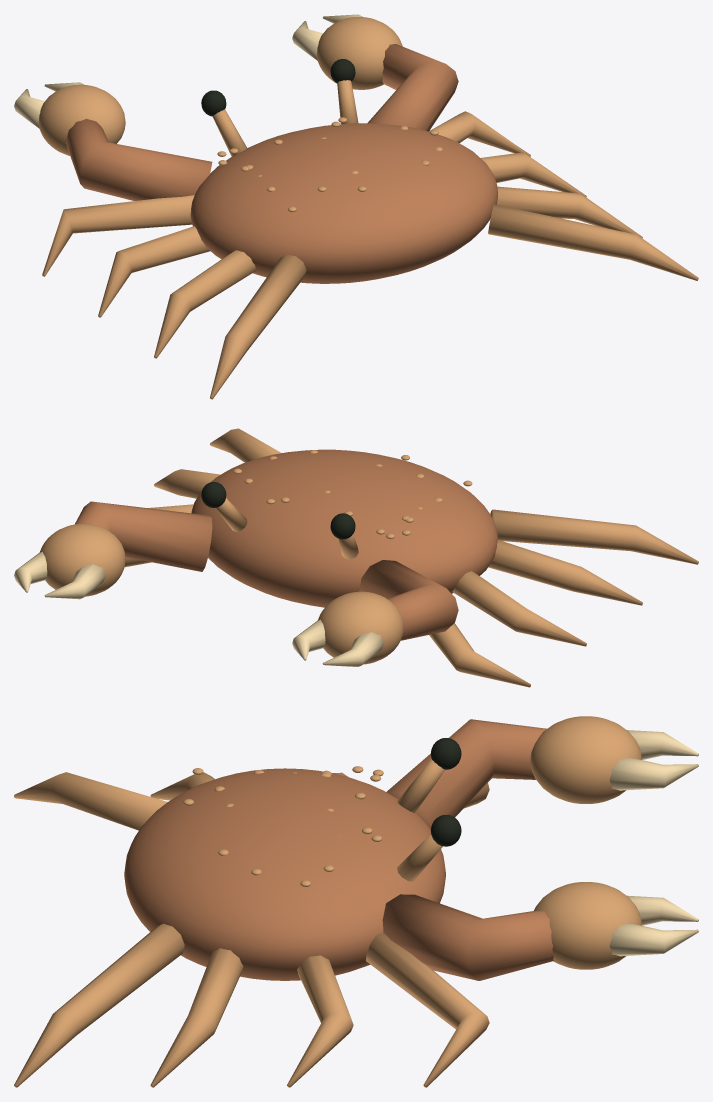
File: crab.glb
3 renders of one model, top to bottom at view 1: azimuth 30°, elevation 25°; view 2: azimuth 150°, elevation 25°; view 3: azimuth 270°, elevation 25°, orthographic. The views are drawn at different scales.
Visible parts, largest first — view 1: Flattened carapace, Claw arm, Segmented walking leg.007, Claw arm.001, Segmented walking leg, Segmented walking leg.003, Claw palm.001, Claw palm, Segmented walking leg.002, Segmented walking leg.001, Segmented walking leg.006, Segmented walking leg.005 (+5 smaller); view 2: Flattened carapace, Claw arm.001, Segmented walking leg.003, Claw arm, Claw palm, Claw palm.001, Segmented walking leg.002, Segmented walking leg.001, Segmented walking leg, Segmented walking leg.007, Segmented walking leg.006, Open pincer (+6 smaller); view 3: Flattened carapace, Claw arm.001, Claw palm, Claw arm, Segmented walking leg.007, Claw palm.001, Segmented walking leg.004, Segmented walking leg.003, Segmented walking leg.006, Segmented walking leg.005, Open pincer.001, Open pincer.003 (+7 smaller).
Boxes of the visible parts, x1,y1,x2,y2 form: Flattened carapace: (190,123,497,283); Claw arm: (66,118,212,200); Segmented walking leg.007: (488,204,698,280); Claw arm.001: (367,44,458,131); Segmented walking leg: (42,195,194,276); Segmented walking leg.003: (210,254,306,399); Claw palm.001: (317,17,402,89); Claw palm: (38,84,125,155); Segmented walking leg.002: (154,250,256,358); Segmented walking leg.001: (98,226,210,317); Segmented walking leg.006: (496,186,642,238); Segmented walking leg.005: (481,152,586,197); Flattened carapace: (191,449,497,607); Claw arm.001: (75,501,212,571); Segmented walking leg.003: (490,509,698,564); Claw arm: (359,560,458,640); Claw palm: (318,591,403,664); Claw palm.001: (40,523,125,596); Segmented walking leg.002: (488,540,642,605); Segmented walking leg.001: (452,571,586,646); Segmented walking leg: (429,623,530,687); Segmented walking leg.007: (210,428,281,462); Segmented walking leg.006: (154,469,220,498); Open pincer: (322,632,384,666); Flattened carapace: (124,768,445,980); Claw arm.001: (382,894,554,980); Claw palm: (530,716,641,803); Claw arm: (386,719,546,829); Segmented walking leg.007: (14,923,184,1087); Claw palm.001: (534,882,641,969); Segmented walking leg.004: (366,932,489,1087); Segmented walking leg.003: (14,772,167,830); Segmented walking leg.006: (150,948,243,1087); Segmented walking leg.005: (287,955,353,1087); Open pincer.001: (609,757,698,790); Open pincer.003: (609,923,698,956).
Bounding box in the file's own units: 0.9842 × 0.2606 × 0.9786.
